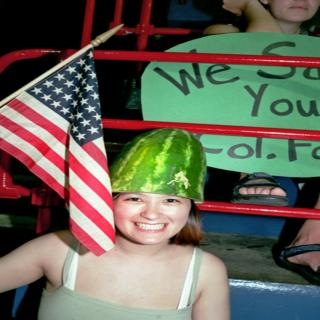Watermelon: (111, 128, 205, 202)
